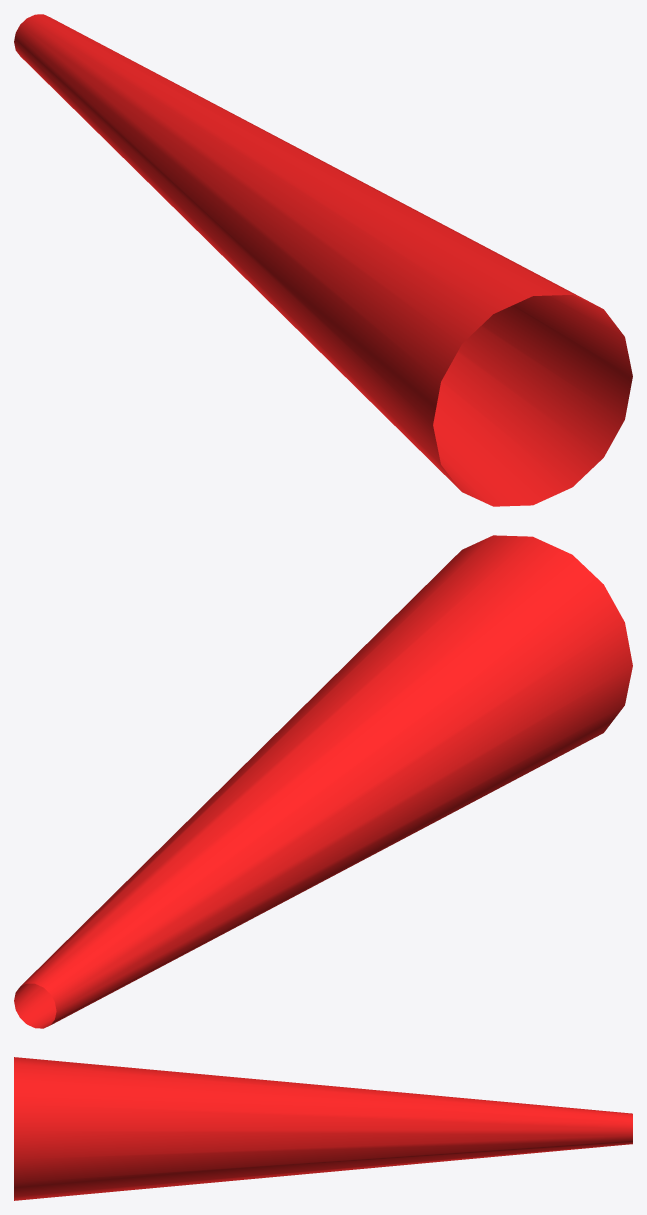
Rendered from LightBeam01.FBX.
The picture shows the model from 3 angles, top to bottom: view 1: azimuth 30°, elevation 25°; view 2: azimuth 150°, elevation 25°; view 3: azimuth 270°, elevation 25°; orthographic projection. The views are drawn at different scales.
Visible parts, largest first — view 1: LightBeam01; view 2: LightBeam01; view 3: LightBeam01.
Boxes of the visible parts, bbox=[...] form: LightBeam01: bbox=[14, 14, 632, 506]; LightBeam01: bbox=[14, 535, 632, 1028]; LightBeam01: bbox=[14, 1057, 632, 1200].
Bounding box in the file's own units: 64.54 × 64.54 × 278.
